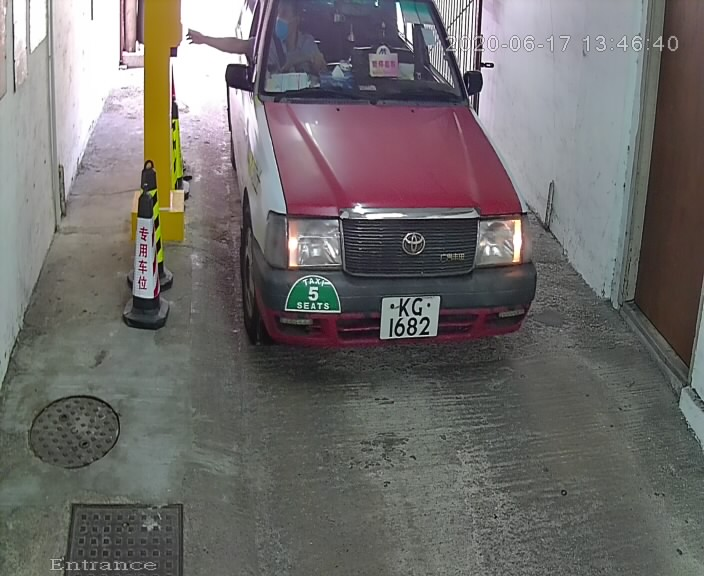taxi: (207, 2, 550, 374)
taxi_mark: (281, 270, 348, 322)
